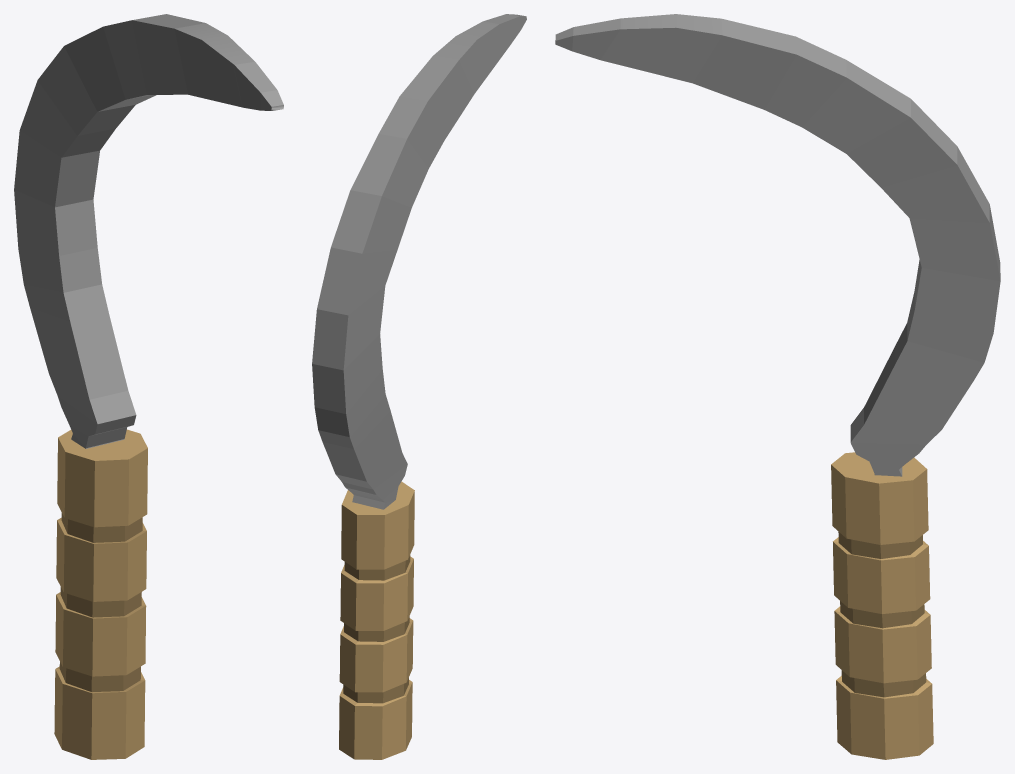
Rendered from scythe.fbx.
3 views of the same model, side by side, from view 1: azimuth 30°, elevation 25°; view 2: azimuth 150°, elevation 25°; view 3: azimuth 270°, elevation 25° (orthographic). The views are drawn at different scales.
Visible parts, largest first — view 1: Cube; view 2: Cube; view 3: Cube.
Part boxes in pixels (box(x1,y1,x2,y2)): Cube: box(14, 14, 283, 759); Cube: box(312, 14, 526, 759); Cube: box(555, 14, 1000, 759).
Size of the model in its own units: 31.75 by 318 by 177.
